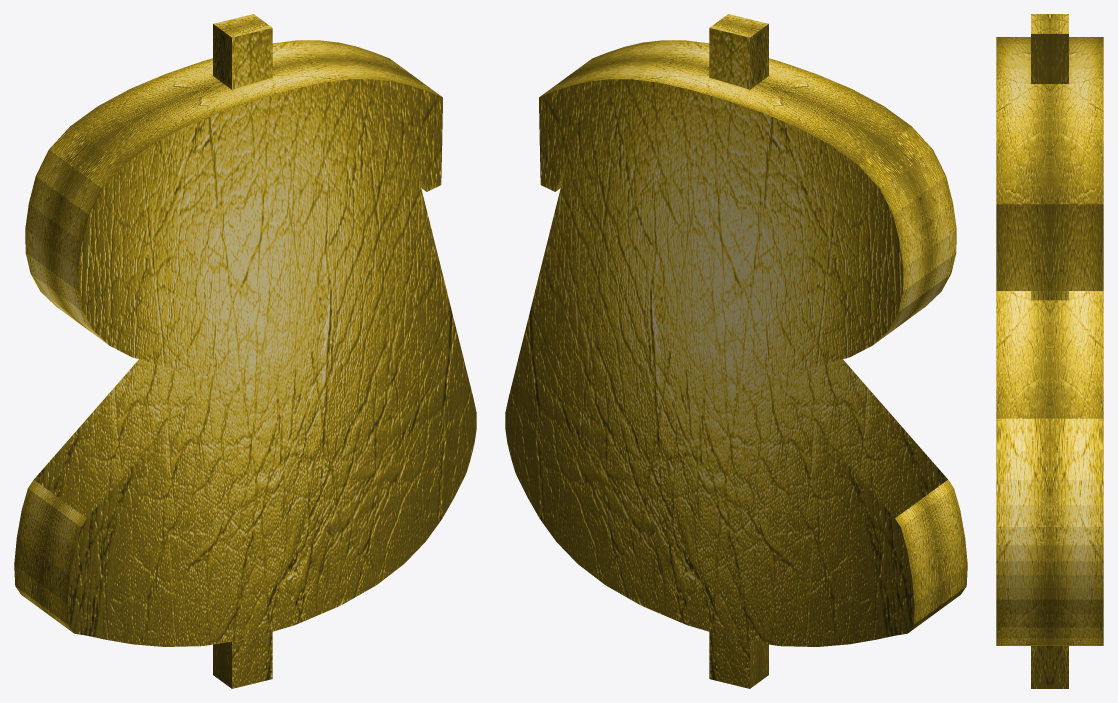
File: money.FBX
3 views of the same model, side by side, from view 1: azimuth 30°, elevation 25°; view 2: azimuth 150°, elevation 25°; view 3: azimuth 270°, elevation 25° (orthographic).
Visible parts, largest first — view 1: Line001; view 2: Line001; view 3: Line001.
Part boxes in pixels (x1=…): Line001: x1=14, y1=14, x2=476, y2=688; Line001: x1=505, y1=14, x2=967, y2=688; Line001: x1=996, y1=14, x2=1103, y2=688.
Bounding box in the file's own units: 88.7 × 135 × 20.
1 material, 1 textured.
